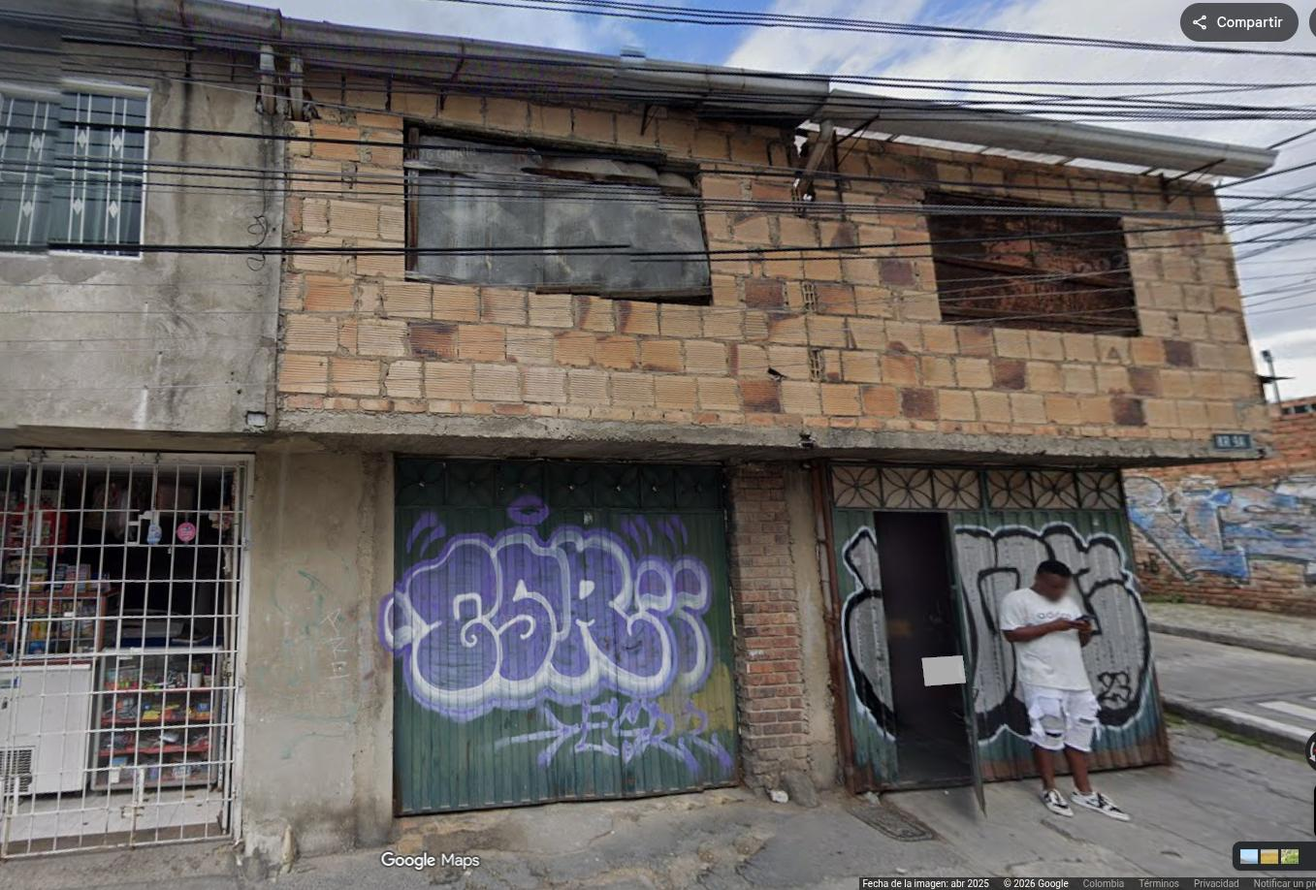casa: (243, 29, 1266, 859), (0, 0, 352, 857)
